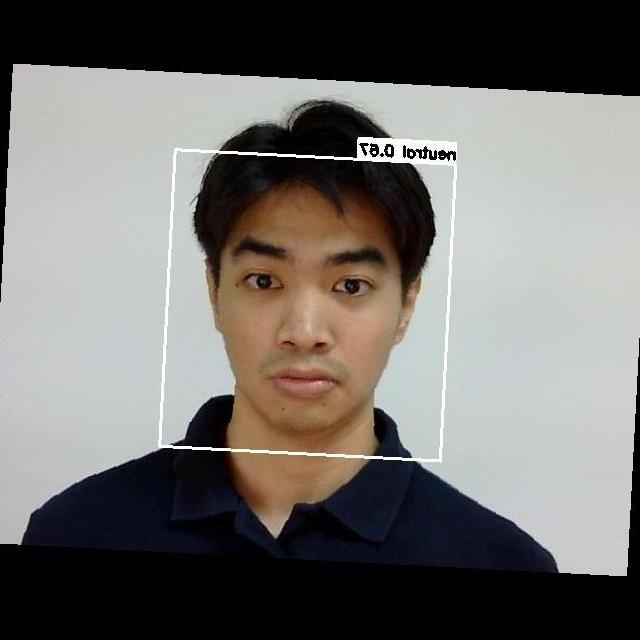Fear: (195, 218, 420, 427)
